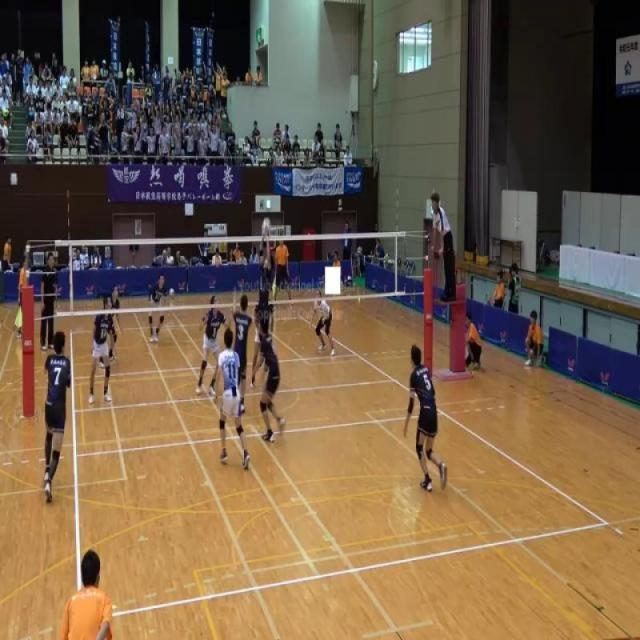volleyball: (261, 216, 271, 236), (169, 287, 175, 297)
